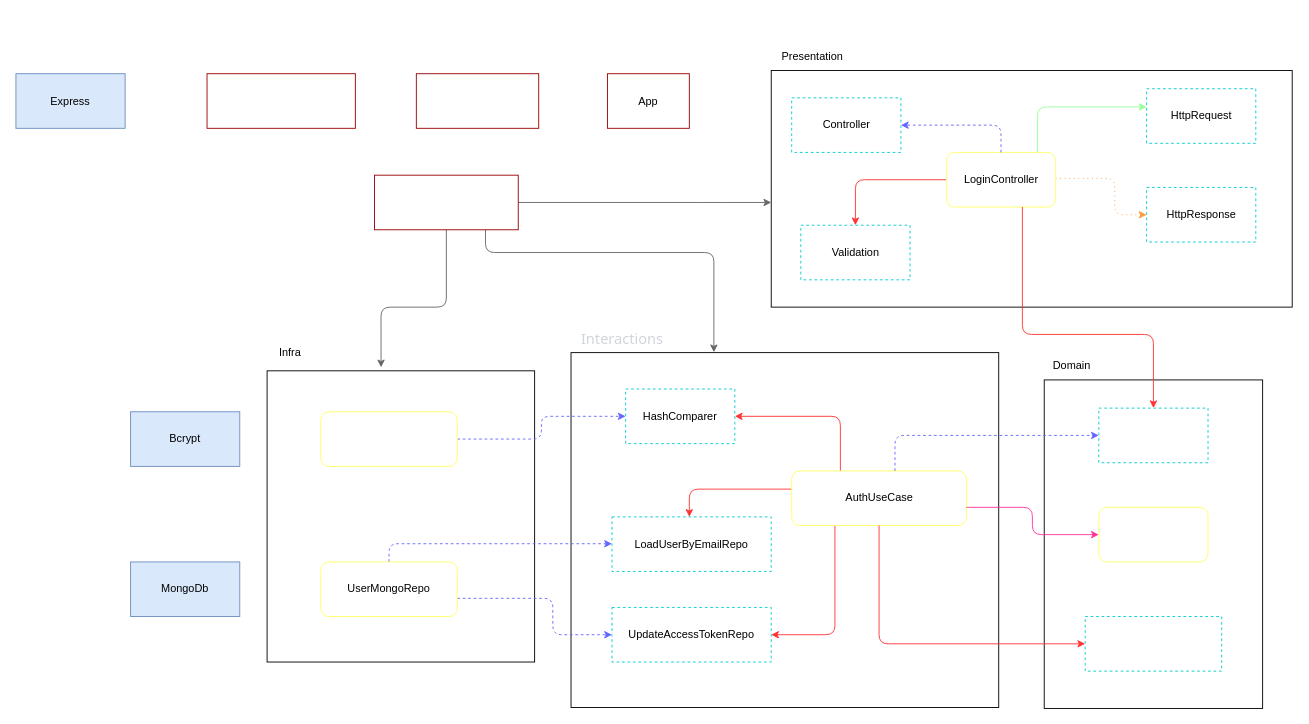
The diagram is 1309 pixels wide and 724 high, and some of its shapes have lost their labels. The shapes that lost their labels are listed below. From the top down, each one's centre as x and y in pixels, then its label:
At [280,100]: "ExpressRouterAdapter".
At [477,100]: "LoginRouter".
At [446,202]: "LoginFactory".
At [388,438]: "BcryptAdapter".
At [1153,435]: "Auth".
At [1153,534]: "User".
At [1153,643]: "AccessTokenBuilder".
